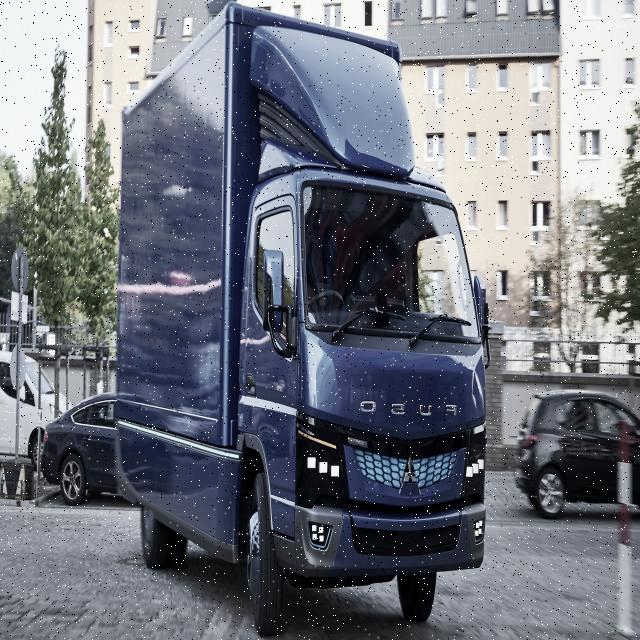truck: (116, 2, 490, 610)
